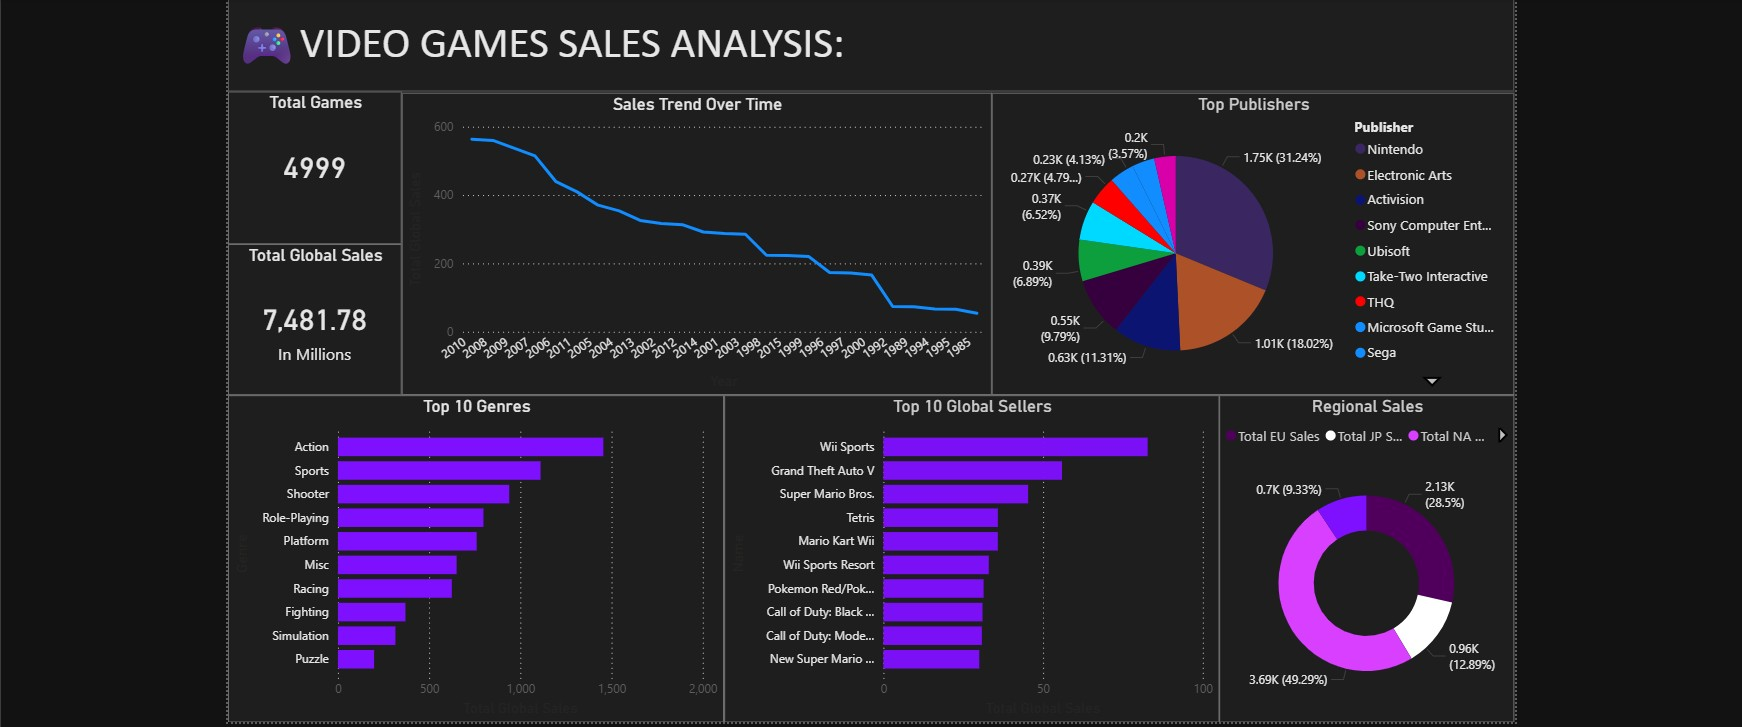

Layout of this report page (visuals, bound fields, positions):
{"tool":"powerbi","page":{"name":"Page 1","canvas":[1280,720],"ordinal":0},"visuals":[{"type":"card","title":"Total Games","fields":{"Values":["VideoGamesSales.Total Games"]},"box":[0,92.1,172.9,151.8],"z":0},{"type":"card","title":"Total Global Sales","fields":{"Values":["VideoGamesSales.Total Global Sales"]},"box":[0,243.8,172.9,150.5],"z":1000},{"type":"barChart","title":"Top 10 Global Sellers","fields":{"Category":["VideoGamesSales.Name"],"Y":["VideoGamesSales.Total Global Sales"]},"box":[493.9,394.3,492.6,325.9],"z":2000},{"type":"textbox","box":[0,0,1280,92.1],"z":3000},{"type":"clusteredBarChart","title":"Top 10 Genres","fields":{"Category":["VideoGamesSales.Genre"],"Y":["VideoGamesSales.Total Global Sales"]},"box":[0,394.3,493.9,325.9],"z":4000},{"type":"lineChart","title":"Sales Trend Over Time","fields":{"Category":["VideoGamesSales.Year"],"Y":["VideoGamesSales.Total Global Sales"]},"box":[172.9,93.3,587.1,301],"z":5000},{"type":"donutChart","title":"Regional Sales","fields":{"Y":["VideoGamesSales.Total EU Sales","VideoGamesSales.Total JP Sales","VideoGamesSales.Total NA Sales","Sum(VideoGamesSales.Other Sales)"]},"box":[986.5,394.3,293.6,325.9],"z":6000},{"type":"pieChart","title":"Top Publishers","fields":{"Category":["VideoGamesSales.Publisher"],"Y":["VideoGamesSales.Total Global Sales"]},"box":[760.1,93.3,520,301],"z":7000}]}

Visuals, with their boxes in screenshot pixels (x1, y1, x2, y2):
"Total Games" card: box=[227, 42, 399, 193]
"Total Global Sales" card: box=[227, 192, 399, 342]
"Top 10 Global Sellers" barChart: box=[718, 342, 1208, 666]
textbox: box=[227, 0, 1499, 42]
"Top 10 Genres" clusteredBarChart: box=[227, 342, 718, 666]
"Sales Trend Over Time" lineChart: box=[399, 43, 982, 342]
"Regional Sales" donutChart: box=[1208, 342, 1499, 666]
"Top Publishers" pieChart: box=[982, 43, 1499, 342]
